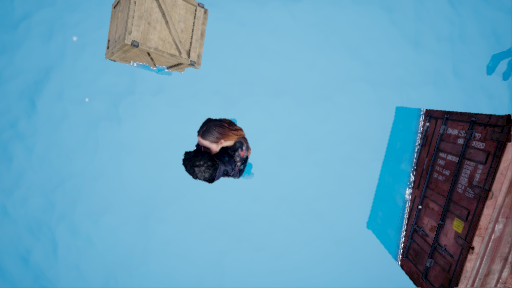person: (190, 113, 256, 186)
